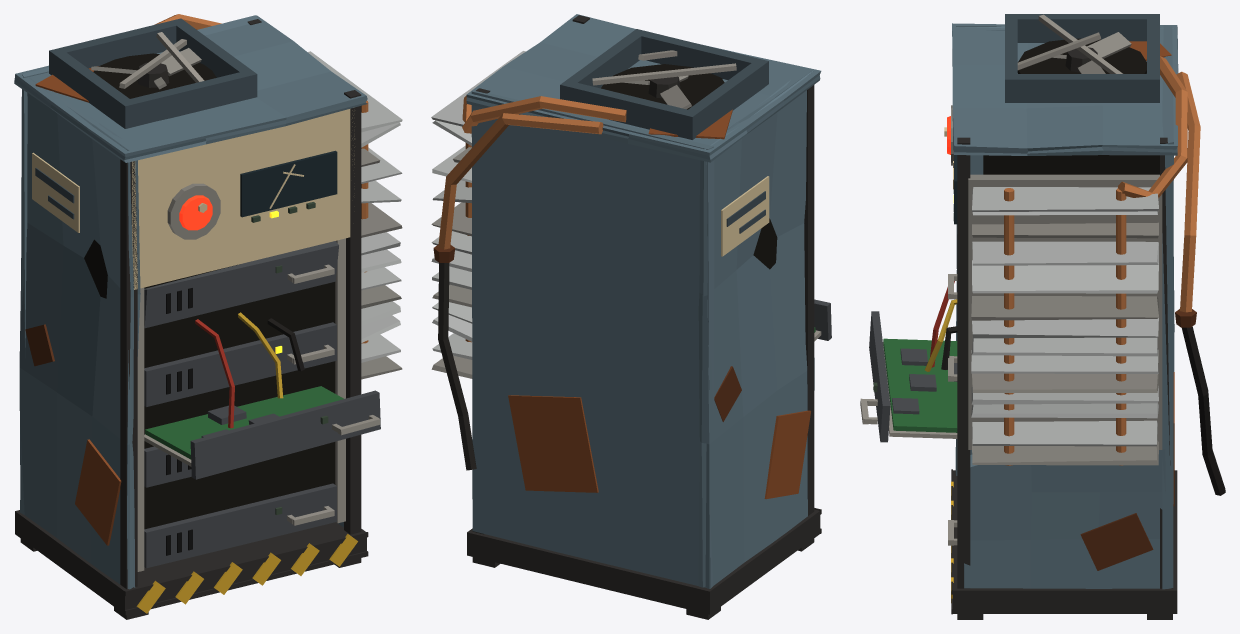
File: ai_control.glb
3 renders of one model, left to right at view 1: azimuth 30°, elevation 25°; view 2: azimuth 150°, elevation 25°; view 3: azimuth 270°, elevation 25°, orthographic.
Parts seen in each view (by area): view 1: ai_control; view 2: ai_control; view 3: ai_control.
Boxes of the visible parts, box(x1,y1,x2,y2) form: ai_control: box(14, 14, 402, 619); ai_control: box(431, 14, 831, 619); ai_control: box(860, 14, 1225, 619).
Size of the model in its own units: 0.7855 by 1.33 by 0.8473.
